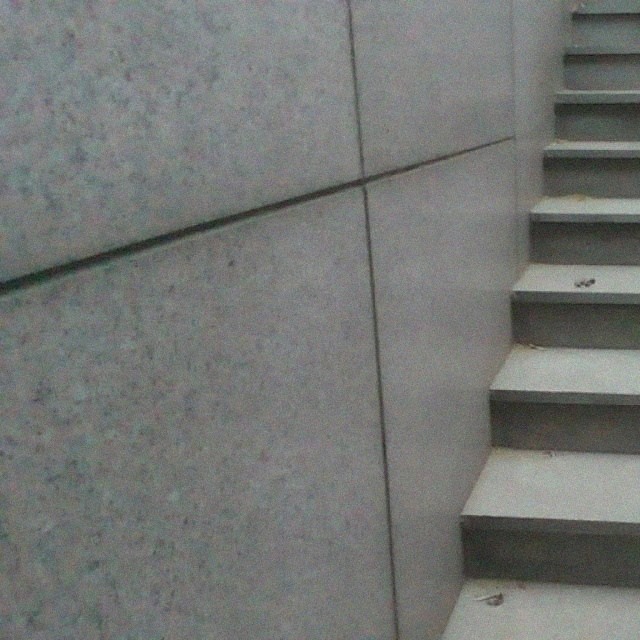stair: (548, 5, 640, 640)
